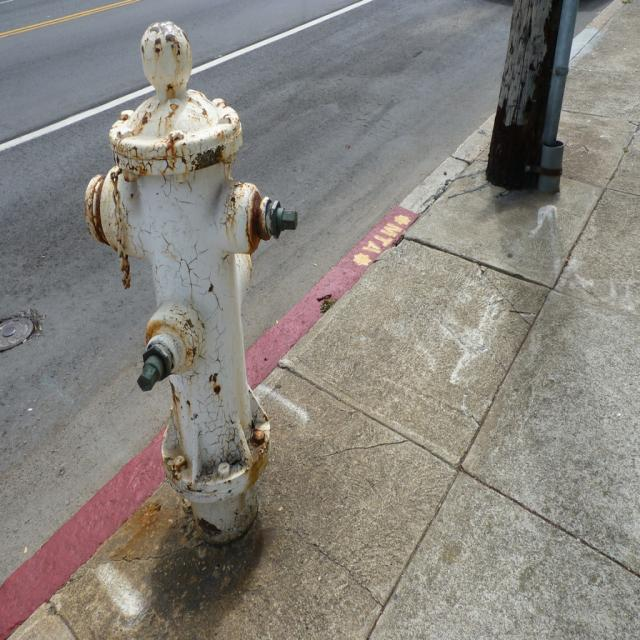fire_hydrant: (86, 21, 300, 548)
